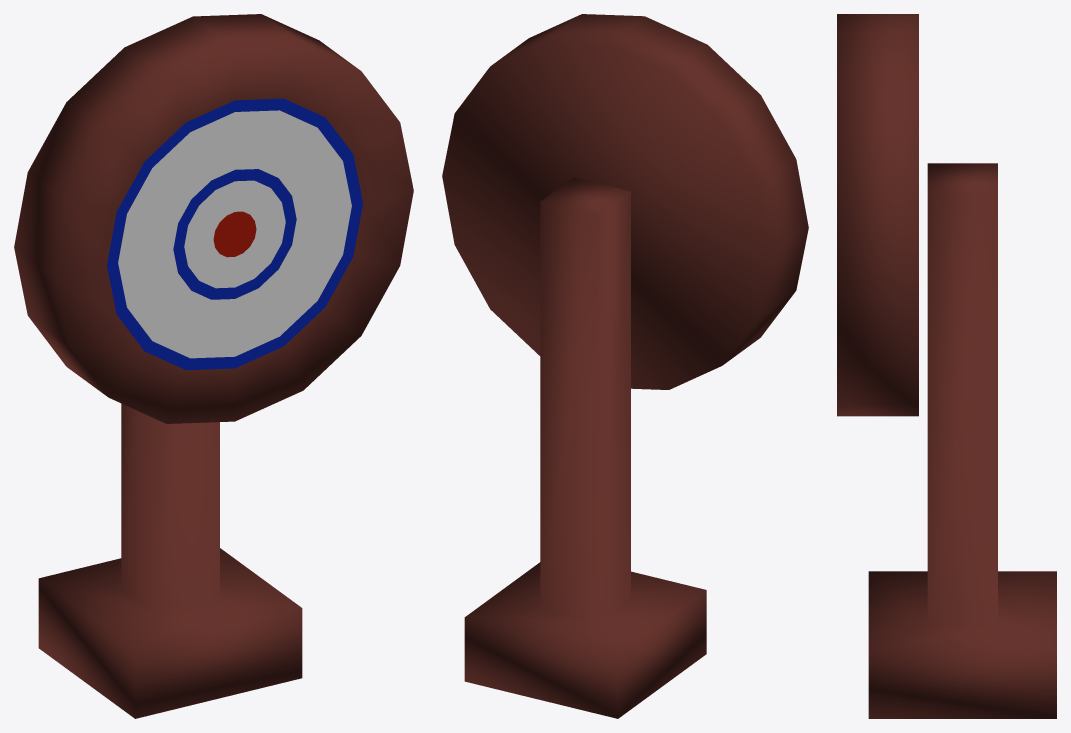
Rendered from TargetsTestWhole.dae.
3 views of the same model, side by side, from view 1: azimuth 30°, elevation 25°; view 2: azimuth 150°, elevation 25°; view 3: azimuth 270°, elevation 25° (orthographic). The views are drawn at different scales.
Parts seen in each view (by area): view 1: Target; view 2: Target; view 3: Target.
Boxes of the visible parts, <box> form: Target: <box>14,14,413,718</box>; Target: <box>442,14,808,718</box>; Target: <box>837,14,1056,718</box>.
Size of the model in its own units: 0.9765 by 0.5329 by 1.73.
